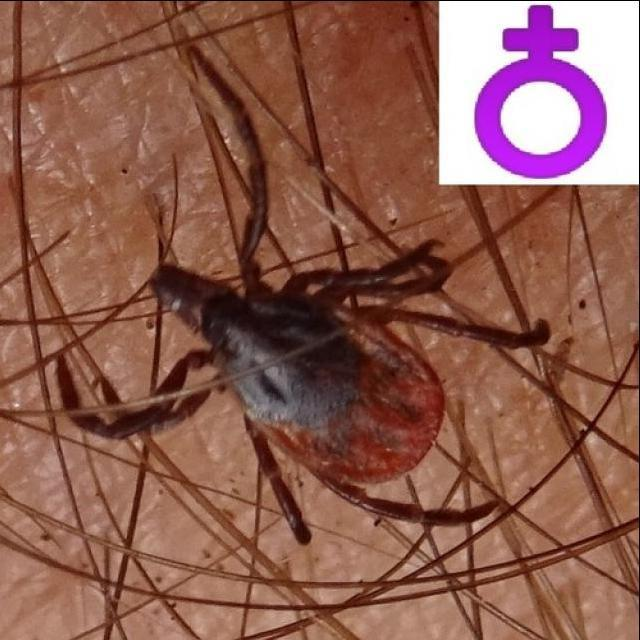Ixodes Ricinus-F: (55, 44, 552, 544)
